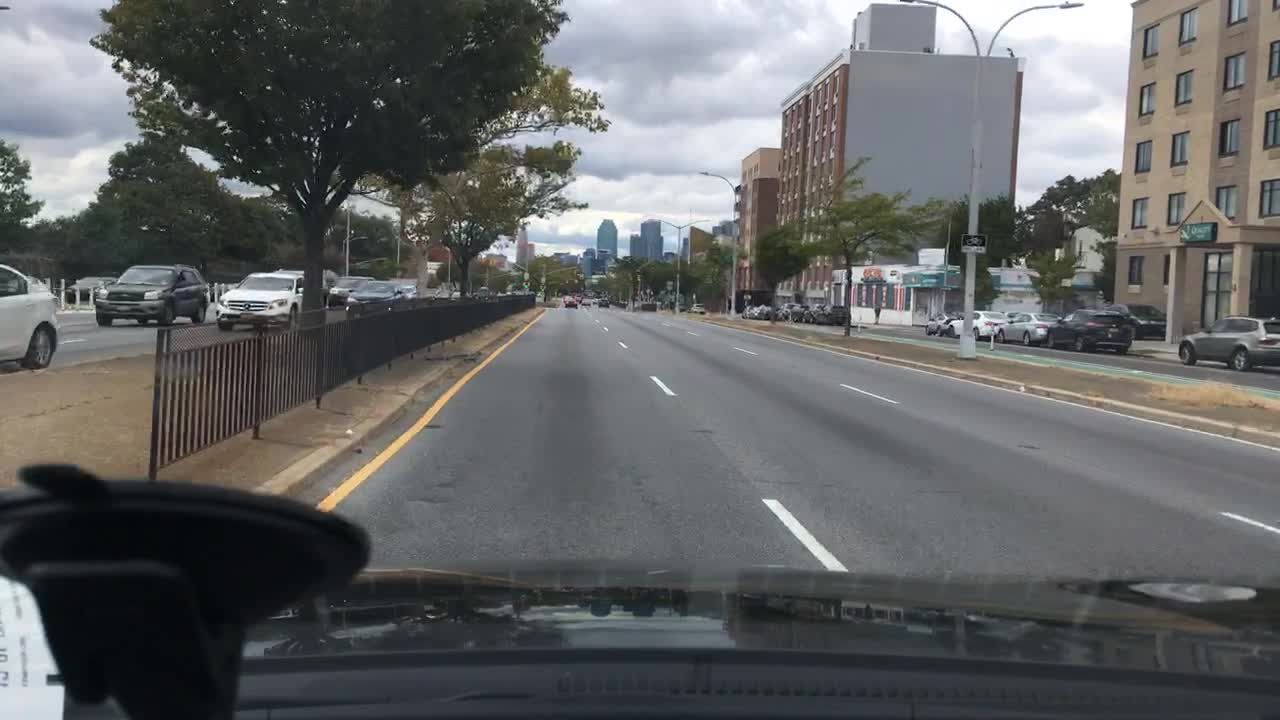car: (91, 264, 211, 329), (209, 269, 315, 335), (0, 261, 63, 372), (1180, 316, 1280, 372), (1051, 309, 1132, 355), (341, 281, 400, 315), (997, 313, 1054, 344), (326, 273, 375, 306), (63, 275, 116, 303), (1120, 304, 1168, 333), (965, 307, 1003, 335), (828, 306, 850, 326), (398, 283, 421, 301), (807, 304, 828, 322), (923, 316, 945, 333), (421, 289, 447, 301), (774, 301, 793, 316), (790, 304, 810, 318), (948, 315, 963, 333), (690, 298, 705, 313), (564, 293, 579, 307), (754, 304, 771, 316), (595, 296, 610, 309), (449, 289, 466, 299), (616, 295, 629, 307), (473, 287, 487, 298), (742, 304, 754, 316), (581, 293, 592, 306)
person: (873, 304, 883, 322)
traffic sign: (962, 233, 988, 255)
